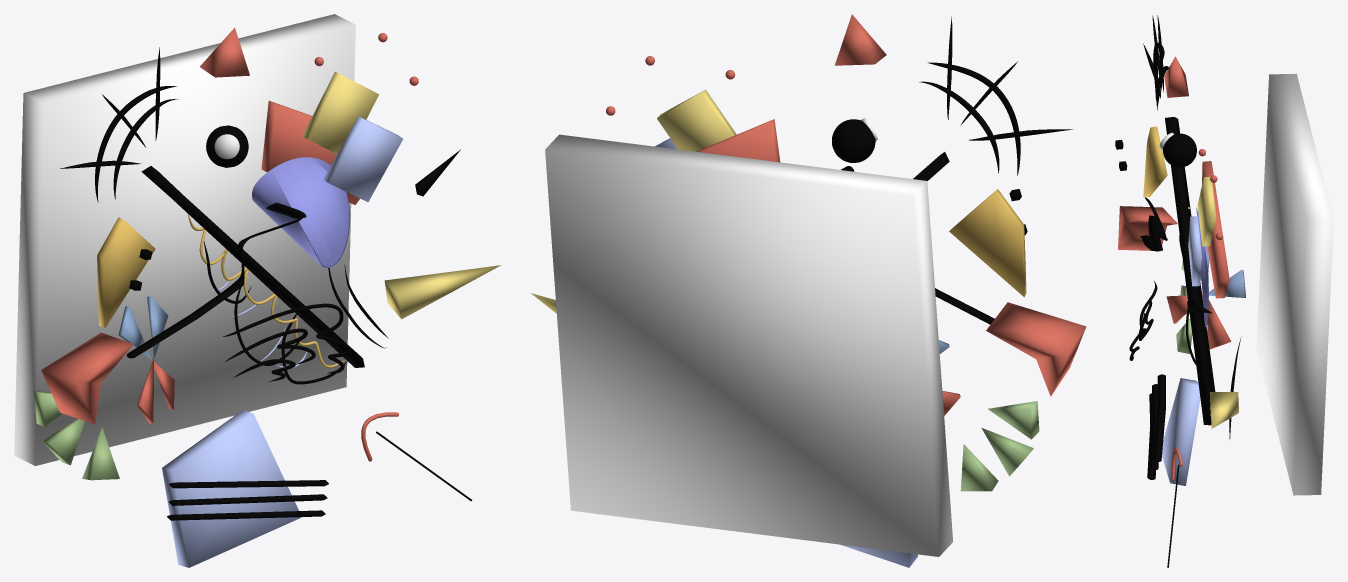
File: kandinsky.glb
3 views of the same model, side by side, from view 1: azimuth 30°, elevation 25°; view 2: azimuth 150°, elevation 25°; view 3: azimuth 270°, elevation 25° (orthographic). The views are drawn at different scales.
Parts seen in each view (by area): view 1: kandinski.AutoSave.20-00; view 2: kandinski.AutoSave.20-00; view 3: kandinski.AutoSave.20-00.
Part boxes in pixels (x1=…): kandinski.AutoSave.20-00: x1=14, y1=14, x2=501, y2=567; kandinski.AutoSave.20-00: x1=531, y1=14, x2=1086, y2=567; kandinski.AutoSave.20-00: x1=1115, y1=15, x2=1333, y2=567.
Bounding box in the file's own units: 2.89 × 3.02 × 1.39.
